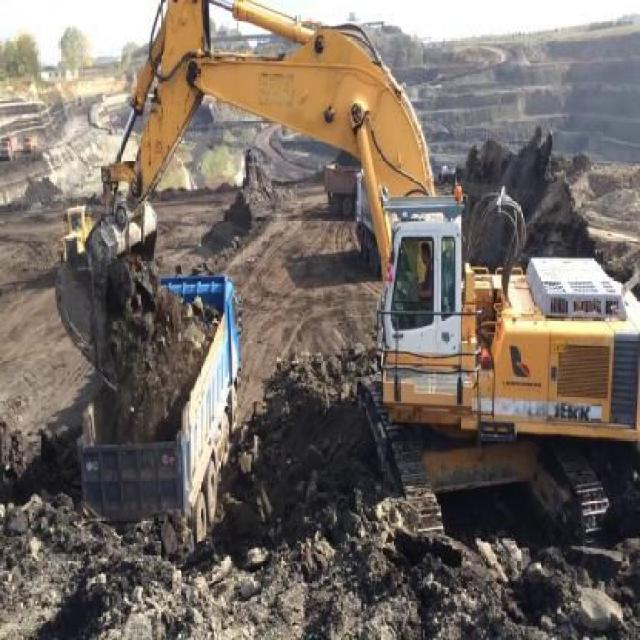dump truck: (78, 268, 245, 544), (324, 152, 359, 220)
excavator: (53, 1, 639, 550)
